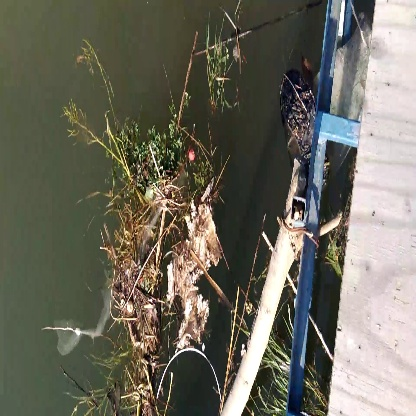branch: (174, 30, 203, 135)
